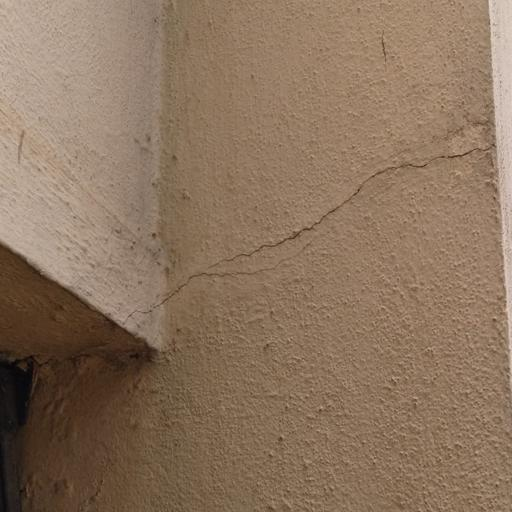minor_crack: (116, 137, 504, 324)
